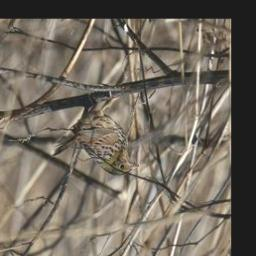Sparrow: (51, 91, 141, 179)
